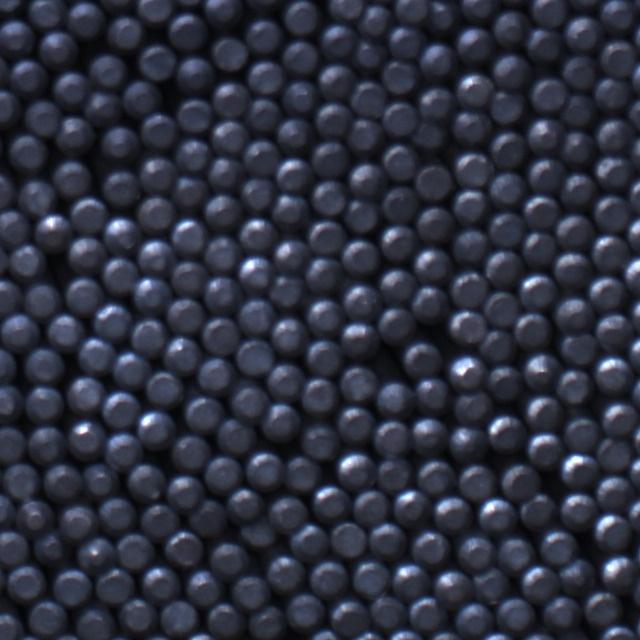tool: (141, 563, 182, 603), (593, 512, 634, 552), (47, 313, 87, 353), (245, 449, 285, 489), (262, 402, 302, 442), (56, 115, 96, 155), (66, 420, 105, 461), (559, 128, 597, 170), (285, 593, 325, 632), (312, 482, 351, 522), (136, 408, 175, 448), (267, 554, 306, 594), (337, 449, 376, 489), (494, 596, 534, 635), (330, 598, 370, 637), (95, 305, 134, 345), (40, 29, 80, 68), (432, 493, 472, 532), (1, 312, 40, 351), (126, 462, 165, 501), (351, 560, 390, 599), (486, 413, 525, 452), (599, 553, 638, 592), (525, 26, 564, 65), (52, 566, 92, 604), (288, 522, 328, 560), (521, 564, 559, 604), (163, 530, 203, 568), (502, 463, 542, 501), (44, 464, 84, 502), (140, 503, 180, 541), (476, 495, 516, 533), (369, 520, 409, 558), (526, 427, 564, 467), (403, 339, 443, 377), (594, 355, 632, 395), (580, 592, 621, 629), (30, 598, 69, 636), (104, 431, 142, 470), (310, 560, 348, 599), (393, 561, 432, 599), (54, 159, 93, 197), (558, 492, 596, 531), (75, 536, 114, 574), (412, 530, 451, 568), (146, 370, 185, 408), (459, 534, 498, 572), (162, 335, 200, 374), (433, 567, 472, 605), (113, 349, 152, 387), (58, 502, 97, 540), (36, 211, 74, 250), (238, 216, 276, 255), (266, 496, 306, 533), (205, 154, 245, 191), (165, 474, 203, 512), (204, 456, 242, 494), (28, 426, 66, 464), (161, 598, 199, 636), (184, 396, 222, 434), (78, 336, 116, 374), (18, 500, 56, 538), (101, 495, 139, 533), (66, 374, 104, 412), (209, 541, 247, 579), (137, 42, 176, 79), (8, 133, 47, 170), (459, 463, 498, 500), (120, 599, 159, 636), (352, 488, 391, 525), (65, 275, 102, 314), (416, 460, 455, 497), (100, 389, 139, 426), (25, 346, 65, 382), (170, 435, 210, 471), (130, 318, 166, 358), (9, 564, 47, 601), (66, 0, 104, 37), (456, 601, 494, 638), (202, 316, 239, 354), (189, 498, 227, 535), (168, 12, 206, 49), (395, 488, 433, 525), (227, 486, 265, 523), (16, 180, 54, 217), (118, 534, 156, 571), (12, 58, 49, 96), (339, 364, 377, 401), (231, 386, 268, 424), (373, 418, 410, 456), (484, 250, 522, 287), (101, 256, 138, 294), (311, 141, 349, 178), (203, 274, 240, 312), (95, 568, 134, 604), (25, 386, 64, 422), (235, 338, 274, 374), (216, 417, 255, 453), (412, 285, 448, 324), (409, 596, 448, 632), (447, 307, 486, 343), (76, 605, 116, 640), (102, 125, 142, 160), (447, 426, 488, 460), (519, 493, 556, 530), (378, 306, 415, 343), (496, 537, 533, 574), (349, 79, 386, 116), (519, 271, 556, 308), (178, 55, 215, 92), (207, 602, 245, 638), (330, 520, 368, 556), (540, 529, 578, 565), (543, 596, 581, 632), (187, 568, 225, 604), (414, 162, 452, 198), (103, 169, 141, 205), (232, 574, 270, 610), (340, 238, 378, 274), (456, 26, 494, 62), (271, 318, 307, 356), (456, 149, 494, 185), (592, 234, 630, 270), (598, 120, 636, 156), (82, 87, 120, 123), (528, 118, 564, 156), (447, 354, 486, 389), (527, 159, 566, 194), (343, 319, 378, 358), (68, 234, 103, 273), (379, 378, 413, 418), (556, 294, 590, 334), (3, 462, 40, 498), (474, 566, 511, 602), (490, 129, 526, 166), (302, 424, 339, 460), (514, 313, 551, 349), (306, 338, 342, 375), (416, 205, 453, 241), (411, 416, 448, 452), (338, 405, 374, 442), (306, 298, 342, 335), (198, 356, 235, 392), (450, 269, 487, 305), (343, 282, 380, 318), (106, 214, 142, 251), (452, 110, 489, 146), (376, 458, 414, 493), (34, 531, 72, 566), (412, 249, 450, 284), (554, 252, 592, 287), (25, 100, 61, 136), (25, 282, 61, 318), (124, 78, 160, 114), (166, 298, 202, 334), (268, 362, 304, 398), (558, 557, 594, 593), (211, 82, 247, 118), (140, 112, 176, 148), (302, 376, 338, 412), (286, 455, 322, 491), (384, 102, 420, 138), (70, 196, 106, 232), (238, 298, 274, 334), (210, 35, 247, 70), (84, 461, 121, 496), (246, 19, 283, 54), (106, 15, 143, 50), (171, 218, 206, 255), (563, 16, 600, 51), (204, 193, 241, 228), (0, 18, 34, 56), (89, 54, 127, 88), (316, 63, 354, 97), (276, 195, 314, 229), (601, 39, 637, 74), (488, 211, 524, 246), (595, 195, 630, 231), (555, 368, 591, 403), (487, 364, 522, 400), (53, 70, 88, 106), (380, 225, 416, 260), (242, 139, 278, 174), (139, 156, 174, 192), (249, 60, 286, 94), (525, 194, 562, 228), (371, 596, 408, 630), (603, 401, 640, 435), (529, 76, 566, 110), (458, 71, 495, 105), (556, 212, 593, 246), (307, 218, 344, 252), (596, 315, 633, 349), (204, 238, 238, 275), (311, 179, 346, 214), (379, 268, 414, 303), (381, 185, 416, 220), (249, 604, 285, 638), (381, 58, 417, 92), (483, 290, 519, 324), (382, 144, 416, 180), (492, 10, 526, 46), (490, 87, 524, 123), (488, 171, 524, 205), (450, 390, 488, 422), (566, 416, 598, 454), (250, 98, 282, 136), (177, 97, 212, 131), (12, 244, 47, 278), (452, 189, 487, 223), (175, 135, 209, 170), (276, 236, 310, 271), (561, 453, 595, 488), (283, 0, 319, 33), (138, 197, 174, 230), (282, 39, 318, 72), (317, 104, 353, 137), (309, 257, 341, 294), (348, 162, 382, 196), (242, 256, 276, 290), (494, 57, 528, 91), (174, 261, 207, 296), (0, 210, 31, 247), (526, 352, 559, 386), (282, 81, 316, 114), (345, 197, 379, 230), (561, 174, 594, 208), (215, 122, 248, 156), (391, 26, 425, 59), (593, 276, 626, 310), (418, 86, 453, 118), (594, 78, 629, 110), (176, 175, 208, 210), (424, 45, 454, 82), (560, 94, 597, 124), (273, 276, 305, 310), (322, 26, 354, 60), (416, 122, 448, 156), (275, 160, 310, 191), (361, 3, 392, 38), (602, 161, 633, 196), (27, 0, 65, 28), (562, 56, 595, 88), (416, 379, 448, 412), (603, 2, 636, 34), (243, 177, 274, 211), (527, 397, 561, 428), (0, 529, 30, 564), (564, 334, 596, 366), (209, 0, 242, 31), (600, 438, 631, 470), (424, 0, 457, 30), (282, 122, 316, 150), (0, 426, 25, 463), (352, 45, 386, 72), (463, 0, 498, 26), (600, 476, 629, 507), (0, 383, 23, 422), (0, 277, 23, 315), (0, 89, 22, 128), (531, 0, 564, 26), (135, 0, 173, 22), (398, 0, 429, 25), (331, 0, 366, 22), (0, 168, 16, 209), (0, 612, 23, 640), (597, 624, 637, 640), (0, 347, 17, 384), (0, 491, 17, 528), (624, 257, 640, 294), (305, 627, 346, 640), (387, 628, 427, 640), (628, 93, 640, 130), (348, 629, 387, 640), (428, 630, 468, 640), (0, 240, 10, 278), (518, 631, 560, 640), (476, 631, 516, 640), (0, 53, 9, 92), (180, 632, 222, 640), (631, 58, 640, 94), (139, 633, 178, 640), (50, 633, 85, 640), (13, 634, 46, 640)
